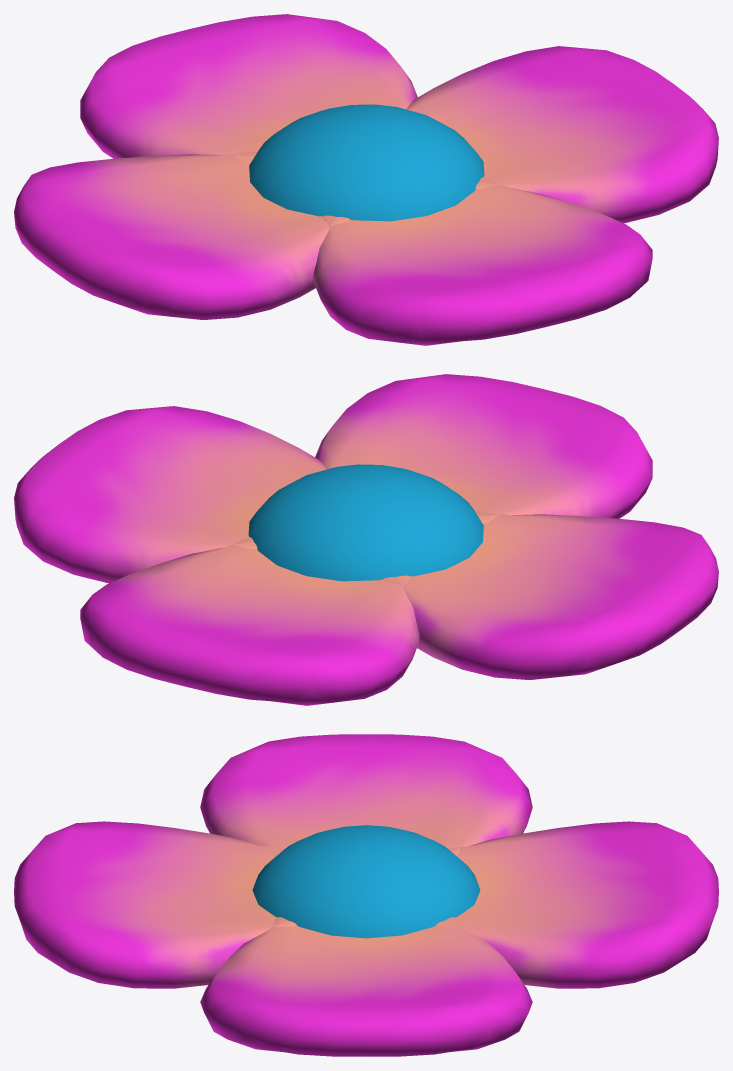
The model's file is hoa8.fbx.
3 views of the same model, one above another, from view 1: azimuth 30°, elevation 25°; view 2: azimuth 150°, elevation 25°; view 3: azimuth 270°, elevation 25° (orthographic). The views are drawn at different scales.
Parts seen in each view (by area): view 1: polySurface58, polySurface71, polySurface61, polySurface72, polySurface59; view 2: polySurface58, polySurface72, polySurface61, polySurface71, polySurface59; view 3: polySurface61, polySurface72, polySurface71, polySurface58, polySurface59.
Boxes of the visible parts, <box> form: polySurface58: <box>14,151,349,319</box>; polySurface71: <box>313,177,652,345</box>; polySurface61: <box>406,46,718,223</box>; polySurface72: <box>80,14,417,163</box>; polySurface59: <box>249,104,484,221</box>; polySurface58: <box>383,511,718,679</box>; polySurface72: <box>80,537,419,705</box>; polySurface61: <box>14,406,326,583</box>; polySurface71: <box>315,374,652,523</box>; polySurface59: <box>248,464,483,581</box>; polySurface61: <box>200,917,532,1056</box>; polySurface72: <box>436,821,718,988</box>; polySurface71: <box>14,821,296,988</box>; polySurface58: <box>200,734,532,856</box>; polySurface59: <box>252,825,480,938</box>.
Bounding box in the file's own units: 83.97 × 18.46 × 83.97.
1 material, 1 textured.
